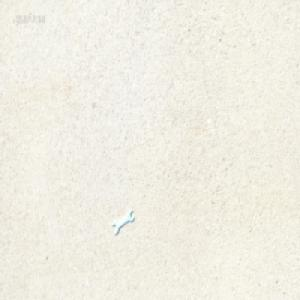Wrench: (112, 209, 134, 235)
